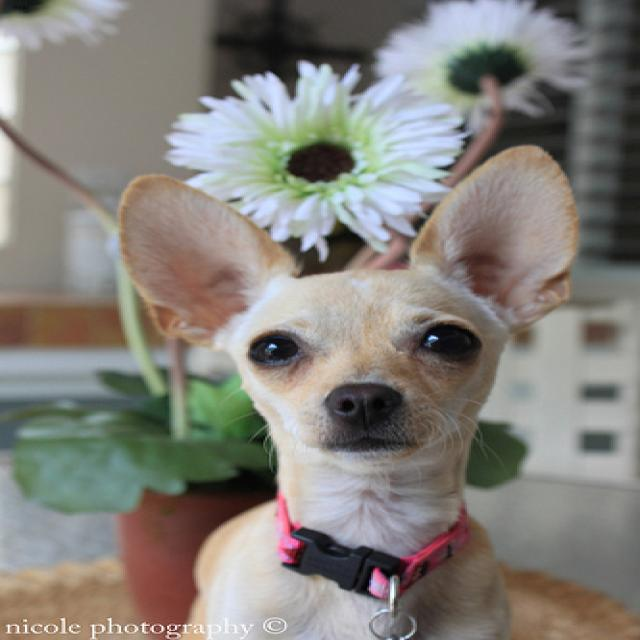dog-chihuahua: (106, 137, 636, 637)
